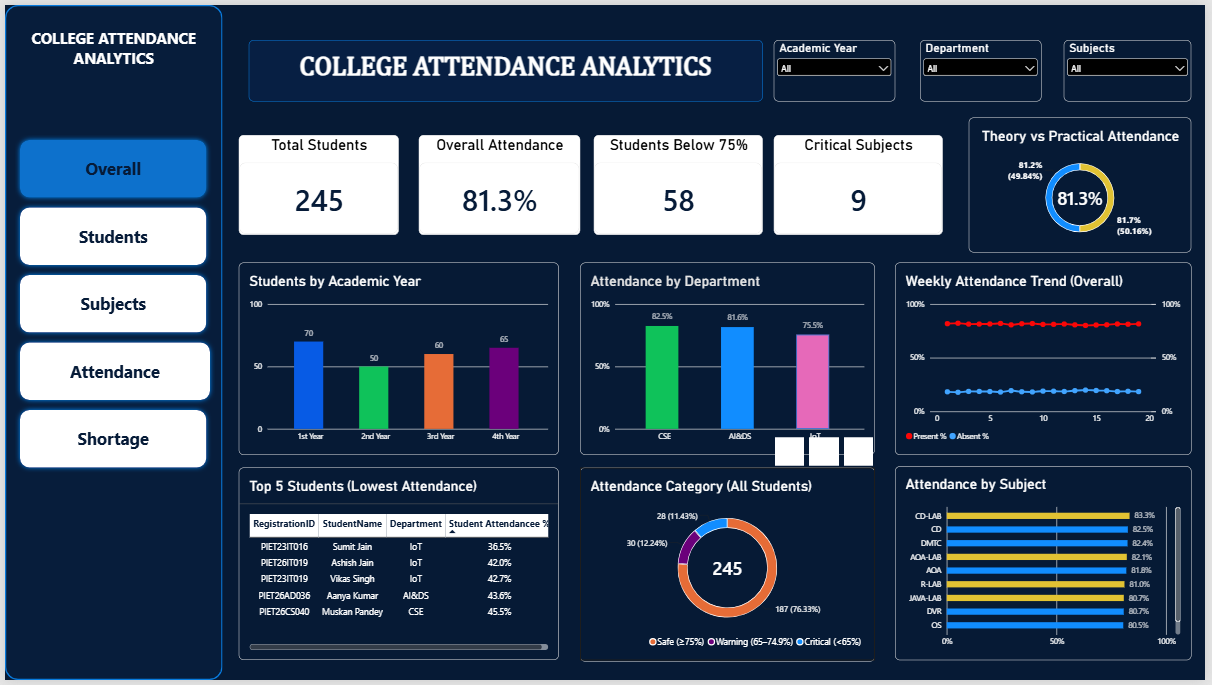

Layout of this report page (visuals, bound fields, positions):
{"tool":"powerbi","page":{"name":"Overall","canvas":[1920,1080],"ordinal":0},"visuals":[{"type":"cardVisual","title":"Total Students","fields":{"Data":["DimStudent.Total Students"]},"box":[374,208,256,160],"z":0},{"type":"shape","title":"Sidebar Background","box":[0,0,348,1080],"z":1000},{"type":"textbox","box":[390,56,822,98],"z":2000},{"type":"textbox","box":[0,0,348,412],"z":3000},{"type":"cardVisual","title":"Overall Attendance","fields":{"Data":["FactAttendance.Overall Attendance %"]},"box":[662,208,258,160],"z":4000},{"type":"cardVisual","title":"Critical Subjects","fields":{"Data":["FactAttendance.Critical Subjects"]},"box":[1230,208,270,160],"z":5000},{"type":"clusteredColumnChart","title":"Students by Academic Year","fields":{"Category":["DimStudent.Year Label"],"Y":["CountNonNull(DimStudent.StudentID)"]},"box":[374,412,512,308],"z":6000},{"type":"clusteredColumnChart","title":"Attendance by Department","fields":{"Category":["FactAttendance.Department"],"Y":["FactAttendance.Overall Attendance %"]},"box":[920,412,472,308],"z":7000},{"type":"clusteredBarChart","title":"Attendance by Subject","fields":{"Category":["FactAttendance.SubjectCode"],"Y":["FactAttendance.Overall Attendance %"]},"box":[1424,738,474,310],"z":8000},{"type":"donutChart","title":"Attendance Category (All Students)","fields":{"Category":["AttendanceSummary.Attendance Category"],"Y":["AttendanceSummary.Students in Category"]},"box":[920,740,472,310],"z":9000},{"type":"lineChart","title":"Weekly Attendance Trend (Overall)","fields":{"Category":["FactAttendance.Week Number"],"Y":["FactAttendance.Present %"],"Y2":["FactAttendance.Absent %"]},"box":[1424,412,474,308],"z":10000},{"type":"donutChart","title":"Theory vs Practical Attendance","fields":{"Category":["DimSubject.SubjectType"],"Y":["FactAttendance.Overall Attendance %"]},"box":[1542,180,356,216],"z":11000},{"type":"slicer","fields":{"Values":["DimStudent.AcademicYear"]},"box":[1230,56,194,98],"z":12000},{"type":"slicer","fields":{"Values":["DimStudent.Department"]},"box":[1464,56,194,98],"z":13000},{"type":"slicer","fields":{"Values":["DimStudent.Gender"]},"box":[1694,56,204,98],"z":14000},{"type":"actionButton","box":[16,208,314,108],"z":15000},{"type":"actionButton","box":[16,316,314,108],"z":16000},{"type":"actionButton","box":[16,424,314,108],"z":17000},{"type":"actionButton","box":[16,532,320,108],"z":18000},{"type":"actionButton","box":[16,640,314,108],"z":19000},{"type":"tableEx","title":"Top 5 Students (Lowest Attendance)","fields":{"Values":["AttendanceSummary.RegistrationID","AttendanceSummary.StudentName","AttendanceSummary.Department","AttendanceSummary.Student Attendance %"]},"box":[374,740,512,308],"z":20000},{"type":"cardVisual","title":"Students Below 75%","fields":{"Data":["FactAttendance.Students Below 75%"]},"box":[942,208,270,160],"z":21000}]}

Visuals, with their boxes in screenshot pixels (x1, y1, x2, y2), scaled from the page's 1920x1080 canvas onto the 1212x685 screenshot:
"Total Students" cardVisual: [236, 132, 398, 233]
"Sidebar Background" shape: [0, 0, 220, 684]
textbox: [246, 36, 765, 98]
textbox: [0, 0, 220, 261]
"Overall Attendance" cardVisual: [418, 132, 581, 233]
"Critical Subjects" cardVisual: [776, 132, 947, 233]
"Students by Academic Year" clusteredColumnChart: [236, 261, 559, 457]
"Attendance by Department" clusteredColumnChart: [581, 261, 879, 457]
"Attendance by Subject" clusteredBarChart: [899, 468, 1198, 665]
"Attendance Category (All Students)" donutChart: [581, 469, 879, 666]
"Weekly Attendance Trend (Overall)" lineChart: [899, 261, 1198, 457]
"Theory vs Practical Attendance" donutChart: [973, 114, 1198, 251]
slicer - DimStudent.AcademicYear: [776, 36, 899, 98]
slicer - DimStudent.Department: [924, 36, 1047, 98]
slicer - DimStudent.Gender: [1069, 36, 1198, 98]
actionButton: [10, 132, 208, 200]
actionButton: [10, 200, 208, 269]
actionButton: [10, 269, 208, 337]
actionButton: [10, 337, 212, 406]
actionButton: [10, 406, 208, 474]
"Top 5 Students (Lowest Attendance)" tableEx: [236, 469, 559, 665]
"Students Below 75%" cardVisual: [595, 132, 765, 233]
